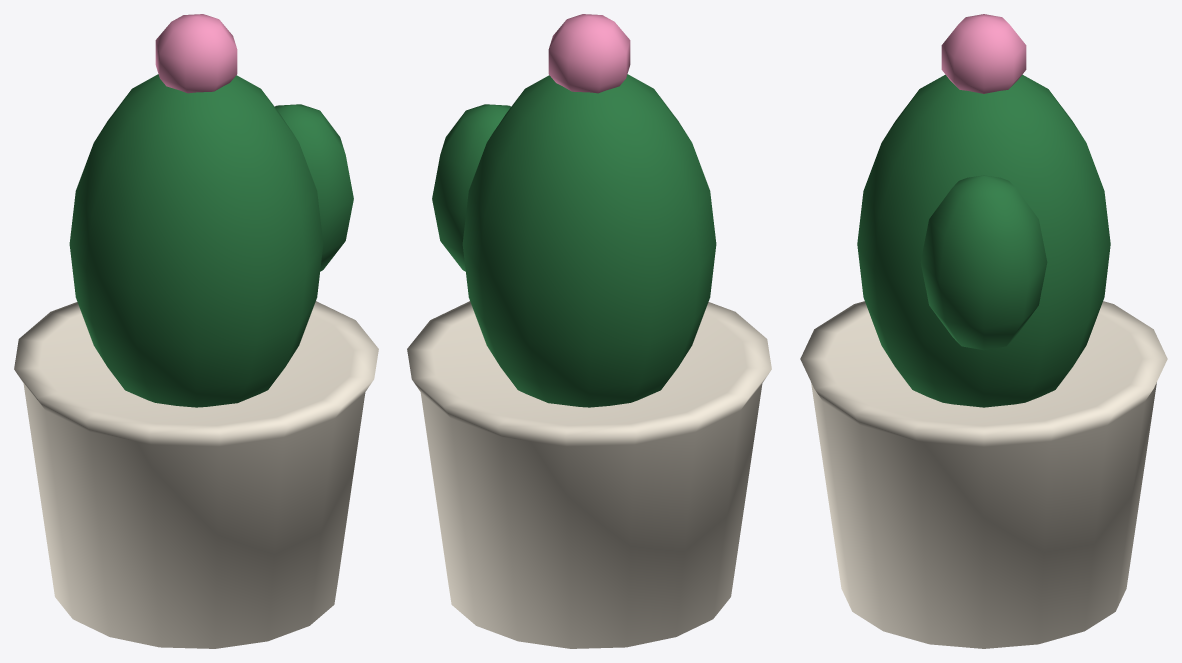
Rendered from RmCactus.fbx.
The picture shows the model from 3 angles, left to right: view 1: azimuth 30°, elevation 25°; view 2: azimuth 150°, elevation 25°; view 3: azimuth 270°, elevation 25°; orthographic projection.
Parts seen in each view (by area): view 1: RmCactusBody; view 2: RmCactusBody; view 3: RmCactusBody.
Part boxes in pixels (x1,y1,x2,y2): RmCactusBody: (14,14,378,648); RmCactusBody: (407,14,771,648); RmCactusBody: (800,14,1167,648).
Size of the model in its own units: 0.116 by 0.199 by 0.116.
